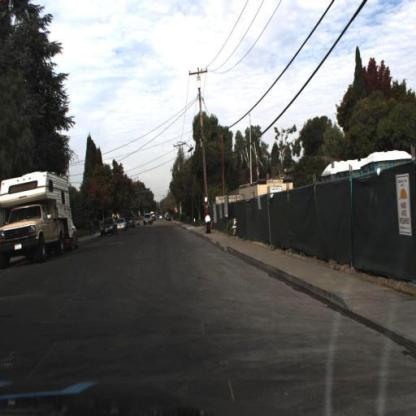car: (98, 215, 119, 240), (117, 216, 130, 234)
pedestrian: (203, 202, 215, 235)
truck: (1, 171, 73, 263)
